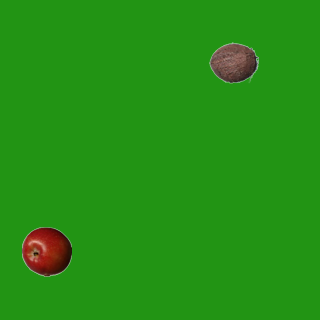Apple Braeburn: (21, 226, 71, 276)
Cocos: (208, 37, 258, 87)
